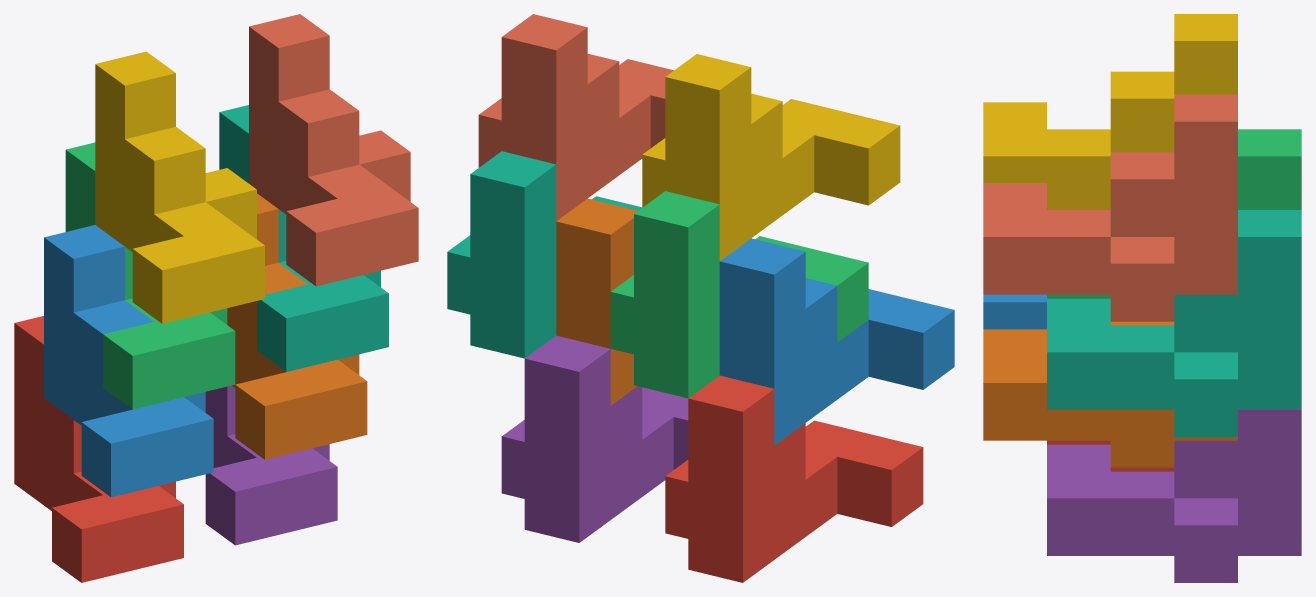
Rendered from tiling.obj.
The picture shows the model from 3 angles, left to right: view 1: azimuth 30°, elevation 25°; view 2: azimuth 150°, elevation 25°; view 3: azimuth 270°, elevation 25°; orthographic projection. The views are drawn at different scales.
Visible parts, largest first — view 1: copy_1_domain_4, copy_1_domain_8, copy_1_domain_2, copy_1_domain_1, copy_1_domain_6, copy_1_domain_3, copy_1_domain_7, copy_1_domain_5; view 2: copy_1_domain_1, copy_1_domain_4, copy_1_domain_2, copy_1_domain_5, copy_1_domain_8, copy_1_domain_3, copy_1_domain_7, copy_1_domain_6; view 3: copy_1_domain_8, copy_1_domain_7, copy_1_domain_5, copy_1_domain_4, copy_1_domain_6, copy_1_domain_3, copy_1_domain_2, copy_1_domain_1.
Part boxes in pixels (<box>): copy_1_domain_4: <box>95,51,264,323</box>; copy_1_domain_8: <box>249,14,418,286</box>; copy_1_domain_2: <box>44,225,213,497</box>; copy_1_domain_1: <box>14,316,183,582</box>; copy_1_domain_6: <box>227,193,367,459</box>; copy_1_domain_3: <box>65,142,235,409</box>; copy_1_domain_7: <box>219,105,388,371</box>; copy_1_domain_5: <box>205,385,337,545</box>; copy_1_domain_1: <box>665,375,923,582</box>; copy_1_domain_4: <box>642,54,900,260</box>; copy_1_domain_2: <box>719,238,954,445</box>; copy_1_domain_5: <box>501,335,688,542</box>; copy_1_domain_8: <box>478,14,673,220</box>; copy_1_domain_3: <box>610,191,868,398</box>; copy_1_domain_7: <box>447,151,642,358</box>; copy_1_domain_6: <box>556,198,637,405</box>; copy_1_domain_8: <box>983,94,1237,321</box>; copy_1_domain_7: <box>1047,210,1301,436</box>; copy_1_domain_5: <box>1047,410,1301,582</box>; copy_1_domain_4: <box>983,14,1237,209</box>; copy_1_domain_6: <box>983,321,1237,467</box>; copy_1_domain_3: <box>1047,129,1301,298</box>; copy_1_domain_2: <box>983,294,1046,329</box>; copy_1_domain_1: <box>1047,440,1174,471</box>.
Size of the model in its own units: 7 by 8 by 5.
